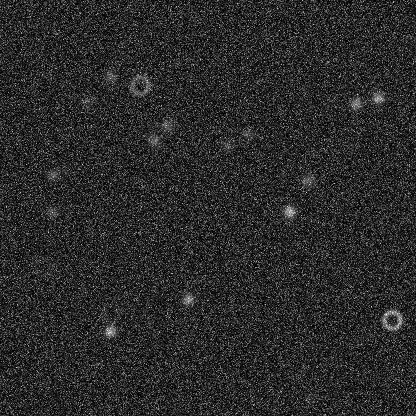Ring: (30, 254, 54, 278), (127, 73, 151, 97), (98, 300, 122, 324), (379, 307, 403, 331)
Spot: (159, 118, 175, 134), (102, 68, 118, 84), (347, 95, 363, 111), (219, 136, 235, 152), (79, 94, 95, 110), (239, 126, 255, 142), (146, 132, 162, 148), (102, 323, 118, 339), (44, 167, 60, 183), (44, 203, 60, 219), (303, 389, 319, 405), (179, 291, 195, 307), (299, 172, 315, 188), (370, 89, 386, 105), (281, 203, 297, 219)
